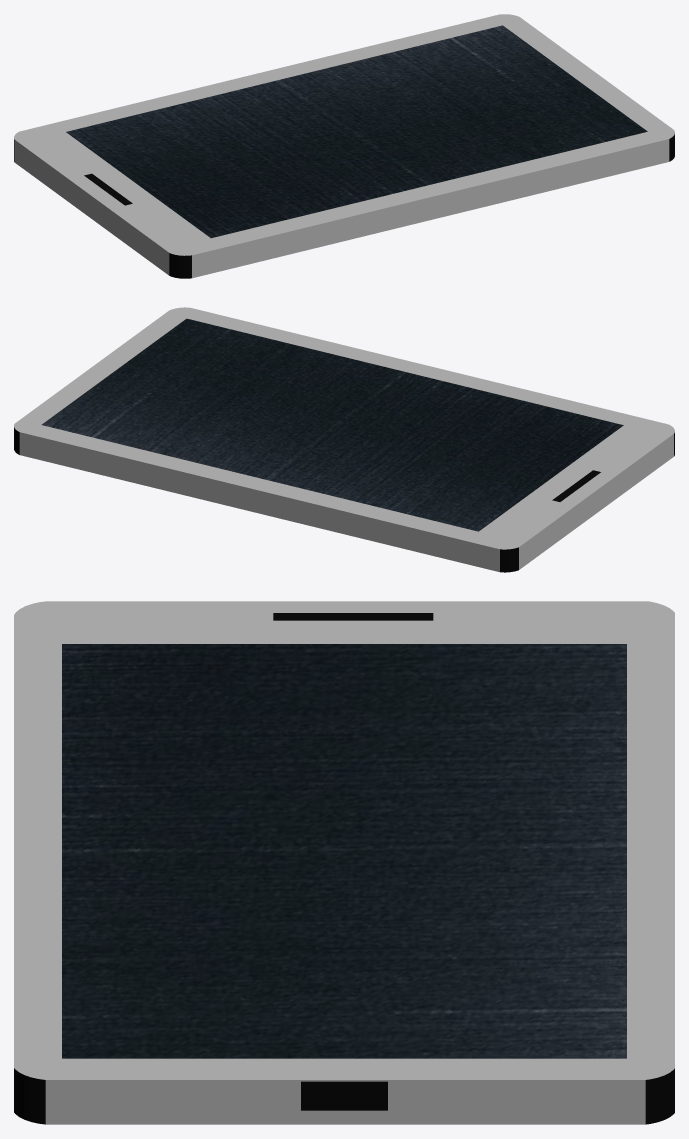
The model's file is Phone.glb.
The picture shows the model from 3 angles, top to bottom: view 1: azimuth 30°, elevation 25°; view 2: azimuth 150°, elevation 25°; view 3: azimuth 270°, elevation 25°; orthographic projection. The views are drawn at different scales.
Parts seen in each view (by area): view 1: Cube.004; view 2: Cube.004; view 3: Cube.004.
Boxes of the visible parts, x1=… form: Cube.004: x1=14, y1=14, x2=674, y2=278; Cube.004: x1=14, y1=307, x2=674, y2=572; Cube.004: x1=14, y1=601, x2=674, y2=1124.
Size of the model in its own units: 0.311 by 0.0141 by 0.1815.
4 materials, 1 textured.
